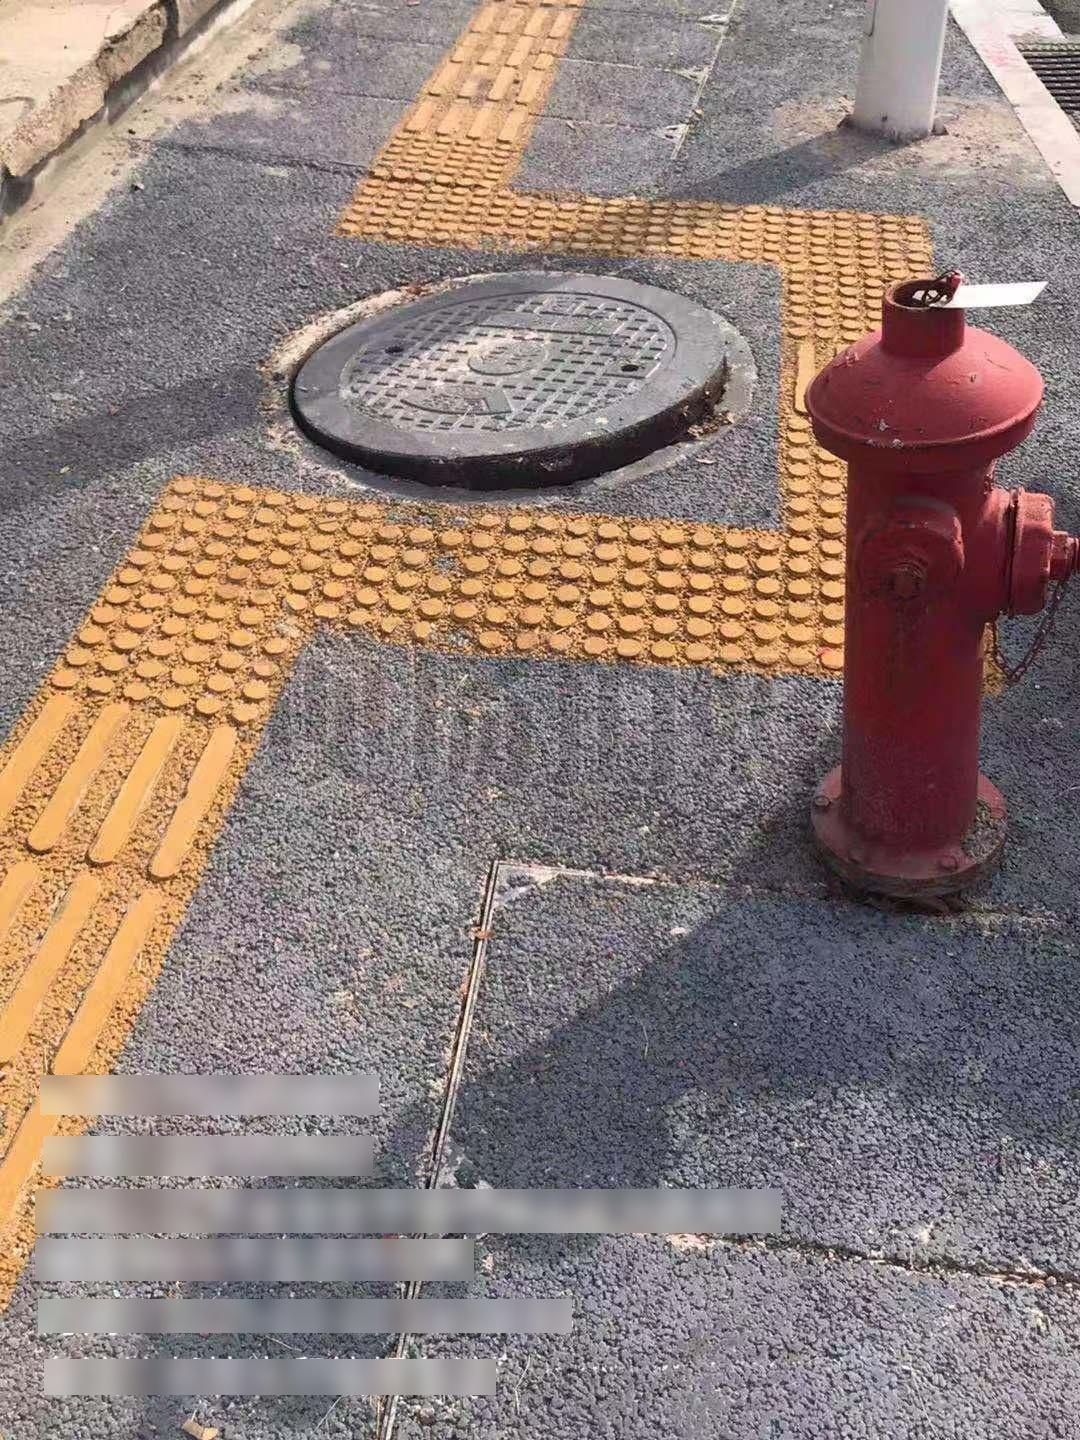wellcover: (269, 262, 769, 514)
